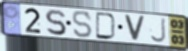2: (24, 7, 43, 35)
D: (95, 11, 118, 41)
J: (149, 17, 168, 44)
S: (44, 9, 68, 37), (71, 10, 94, 39)
V: (122, 14, 146, 43)
